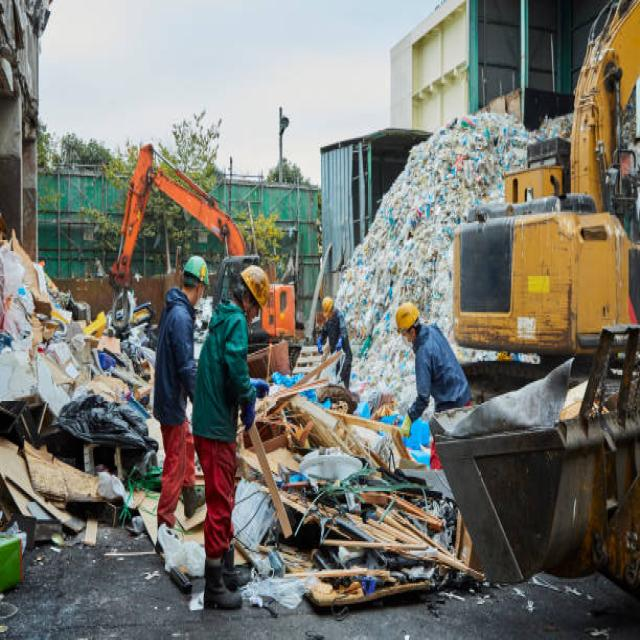cardboard: (1, 441, 119, 533), (12, 227, 56, 361)
plastic: (377, 210, 454, 298), (344, 268, 396, 384), (410, 144, 490, 204)
